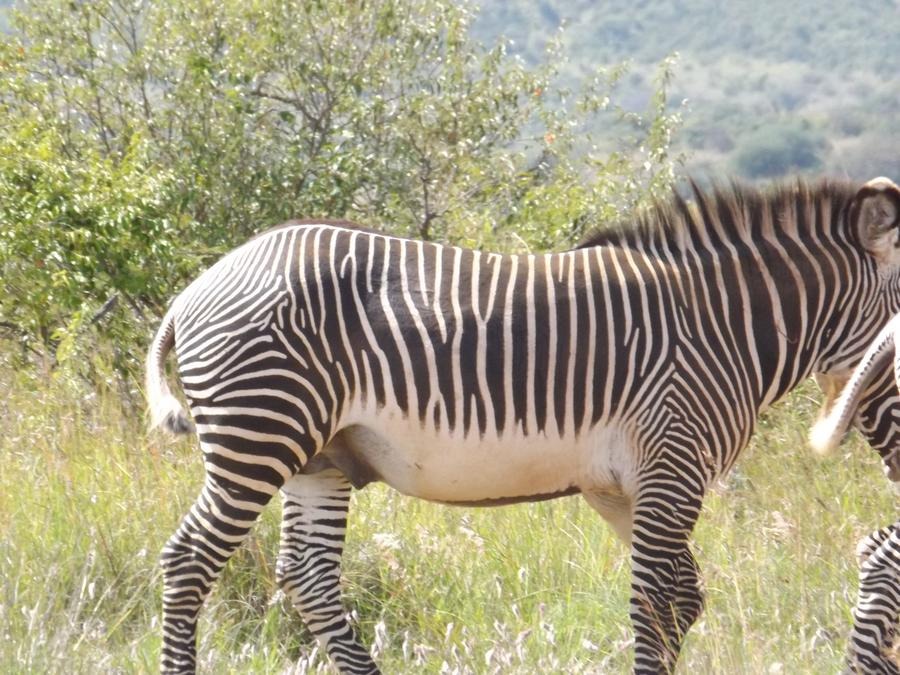zebra_grevys: (175, 221, 717, 479)
